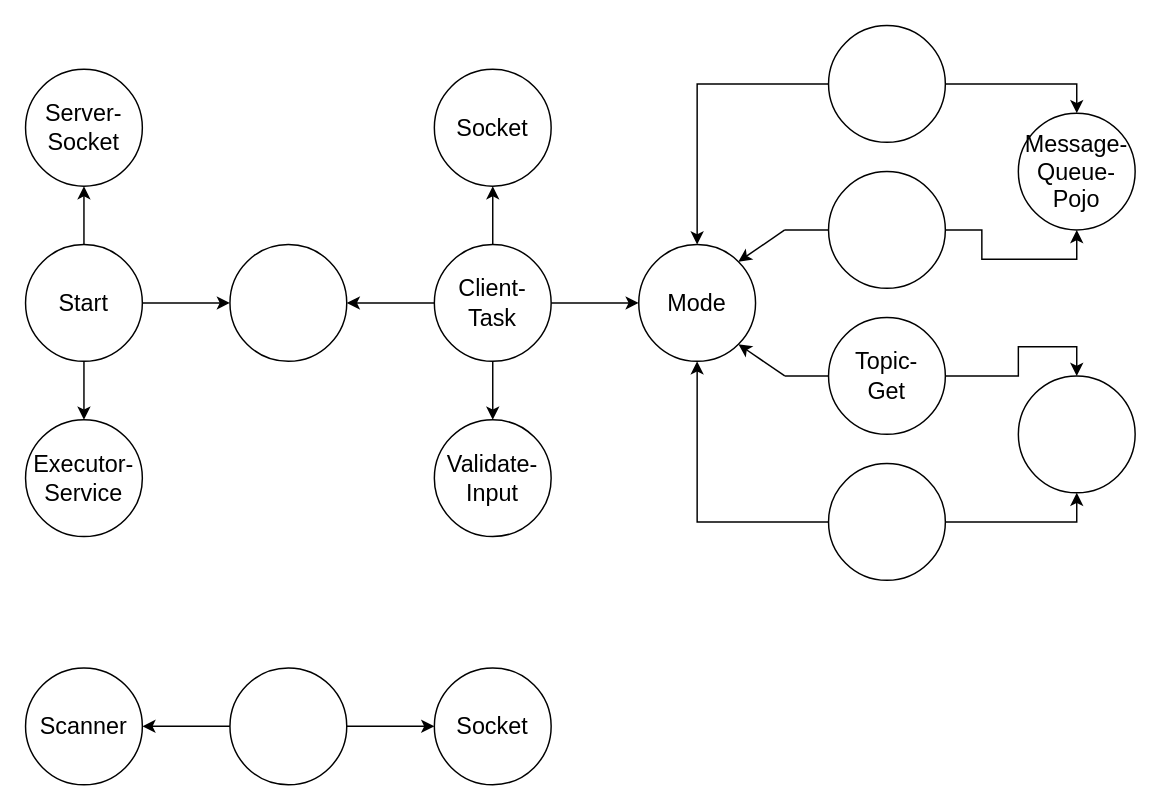
Some shapes in this 1161 by 810 pixel diagram are drawn without their labels. The shapes that lost their labels are listed below. From the top down, each one's centre as x and y in pixels, then its label:
[886,83]: Queue-Get
[886,229]: Queue-Post
[287,302]: Runnable
[1076,433]: Message-Topic- Pojo
[886,521]: Topic- Post
[287,725]: Client
